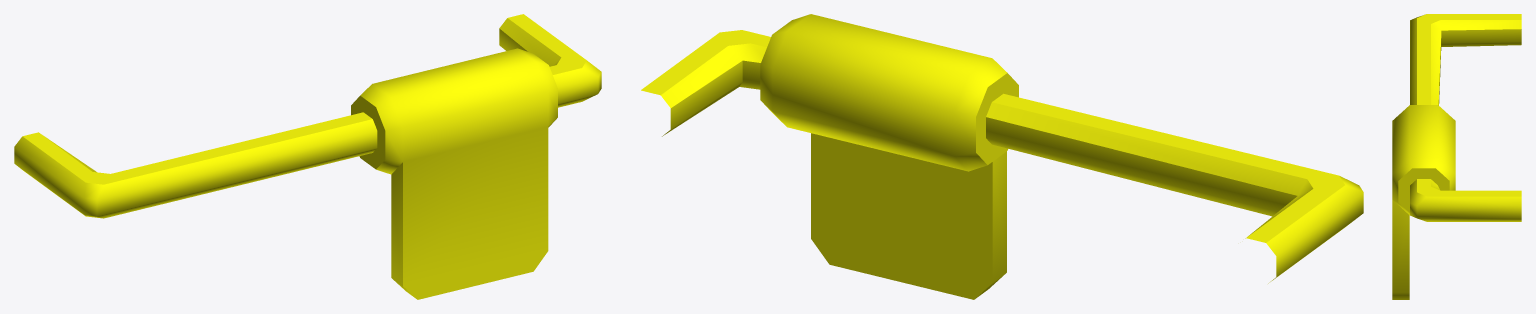
File: kaykit-towelrail.glb
The picture shows the model from 3 angles, left to right: view 1: azimuth 30°, elevation 25°; view 2: azimuth 150°, elevation 25°; view 3: azimuth 270°, elevation 25°; orthographic projection. The views are drawn at different scales.
Parts seen in each view (by area): view 1: towelrail; view 2: towelrail; view 3: towelrail.
Part boxes in pixels (x1,y1,x2,y2): towelrail: [14, 14, 601, 299]; towelrail: [641, 14, 1363, 299]; towelrail: [1392, 14, 1521, 299].
Bounding box in the file's own units: 1.6 × 0.5829 × 0.4633.
